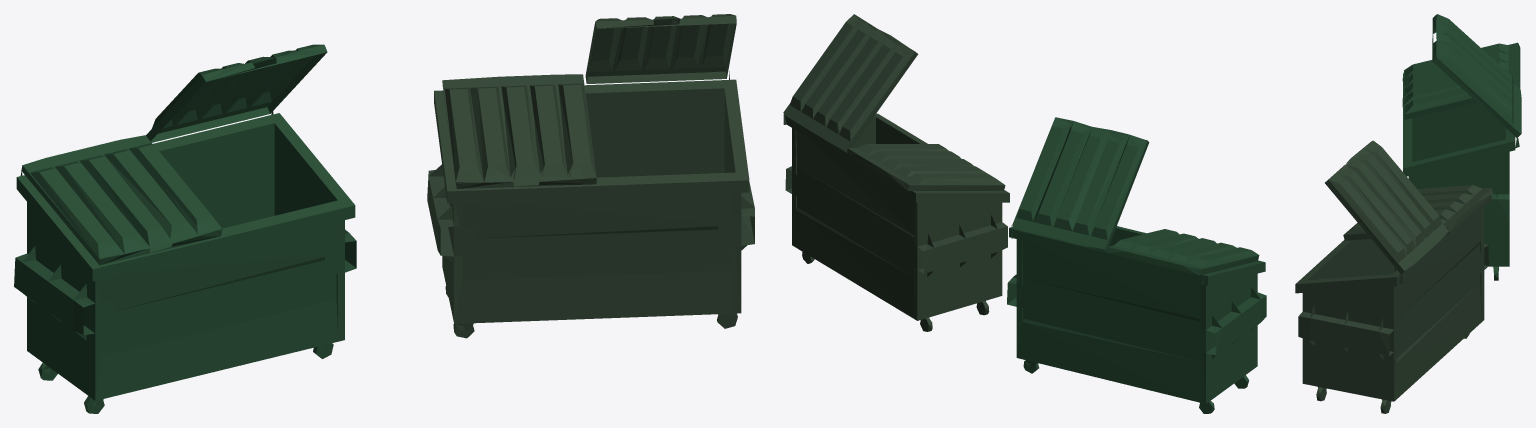
The model's file is dumpsters.lod0.glb.
3 views of the same model, side by side, from view 1: azimuth 30°, elevation 25°; view 2: azimuth 150°, elevation 25°; view 3: azimuth 270°, elevation 25° (orthographic). The views are drawn at different scales.
Parts seen in each view (by area): view 1: Base_01_Dumpster_01_0; view 2: Base_01_Dumpster_01_0; view 3: Base_01_Dumpster_01_0.
Part boxes in pixels (<box>): Base_01_Dumpster_01_0: <box>14,14,754,413</box>; Base_01_Dumpster_01_0: <box>783,14,1266,413</box>; Base_01_Dumpster_01_0: <box>1295,14,1521,413</box>.
Size of the model in its own units: 4.94 by 2.22 by 2.02.
